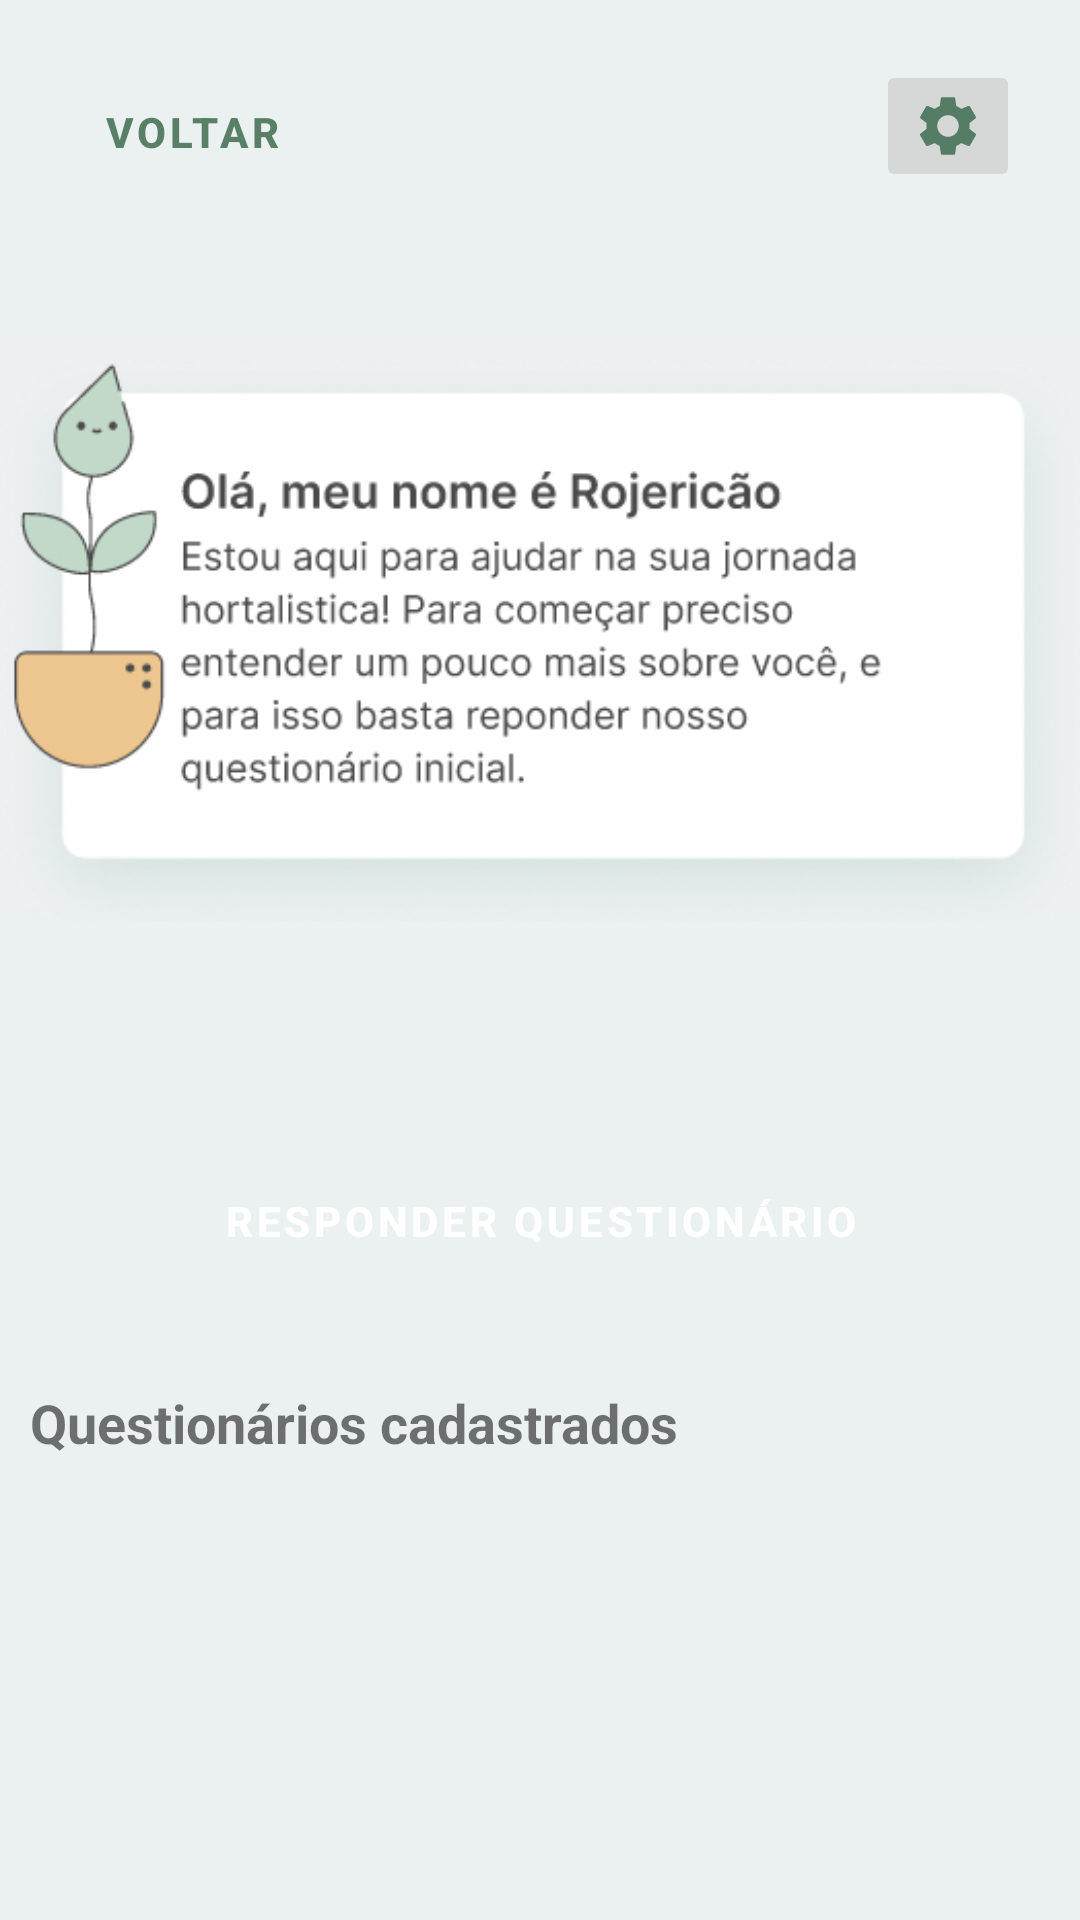

Icons on this 1080x1920 Android screen, each with the point to tap as (x,y):
settings: (948,126)
